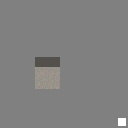supply_truck: (35, 57, 60, 89)
